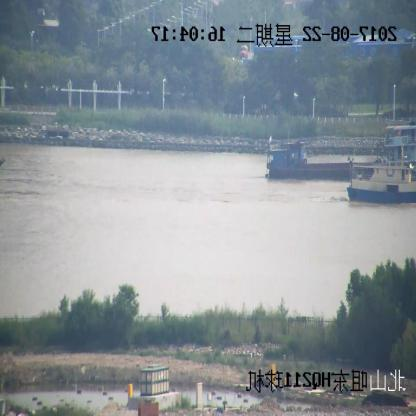Fishing Boat: (343, 131, 416, 205)
